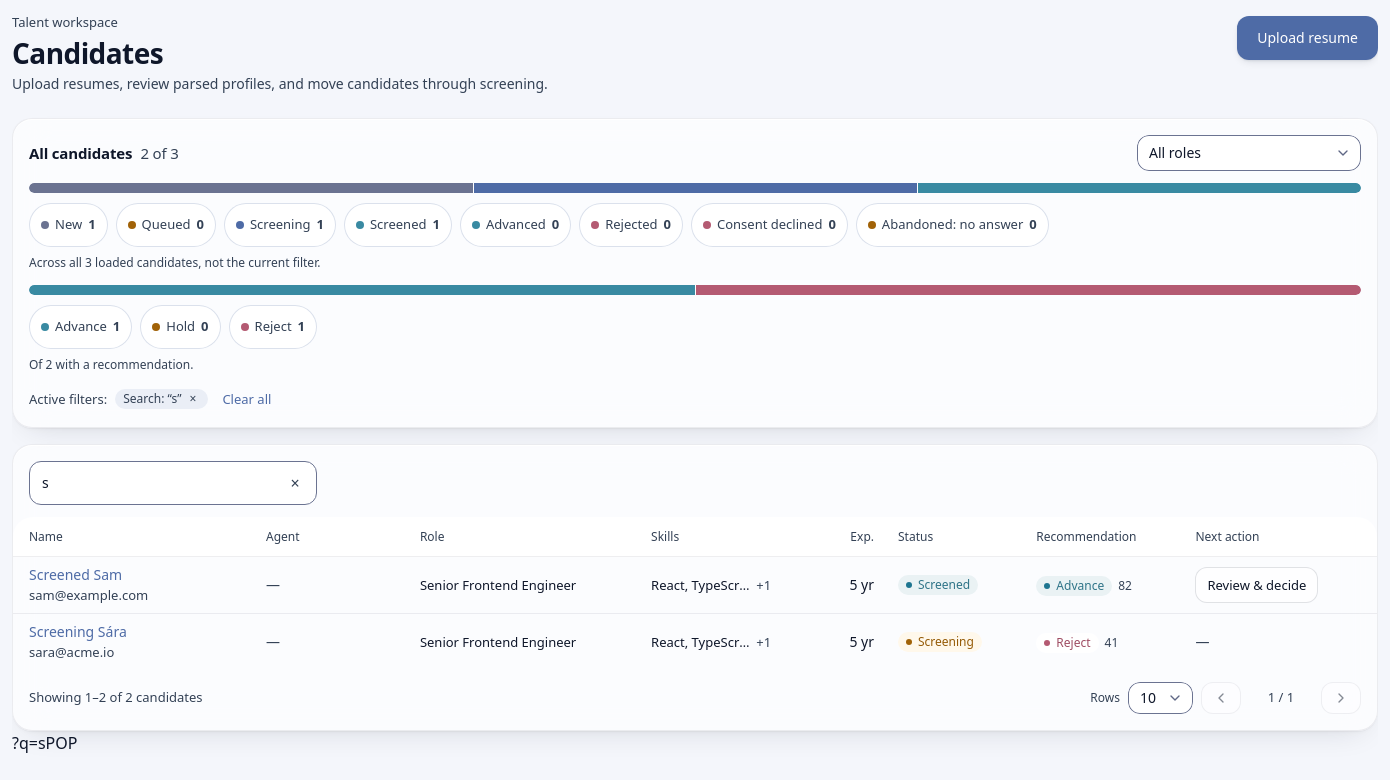
Test: CandidatesPage search › keeps q when a status toggle rebuilds the URL
This screenshot has width=1390, height=780.
Expected: the link "Screened Sam" is shown, [29, 565, 122, 584]
Click the button "Screened 1" at (398, 225), box [344, 203, 452, 247]
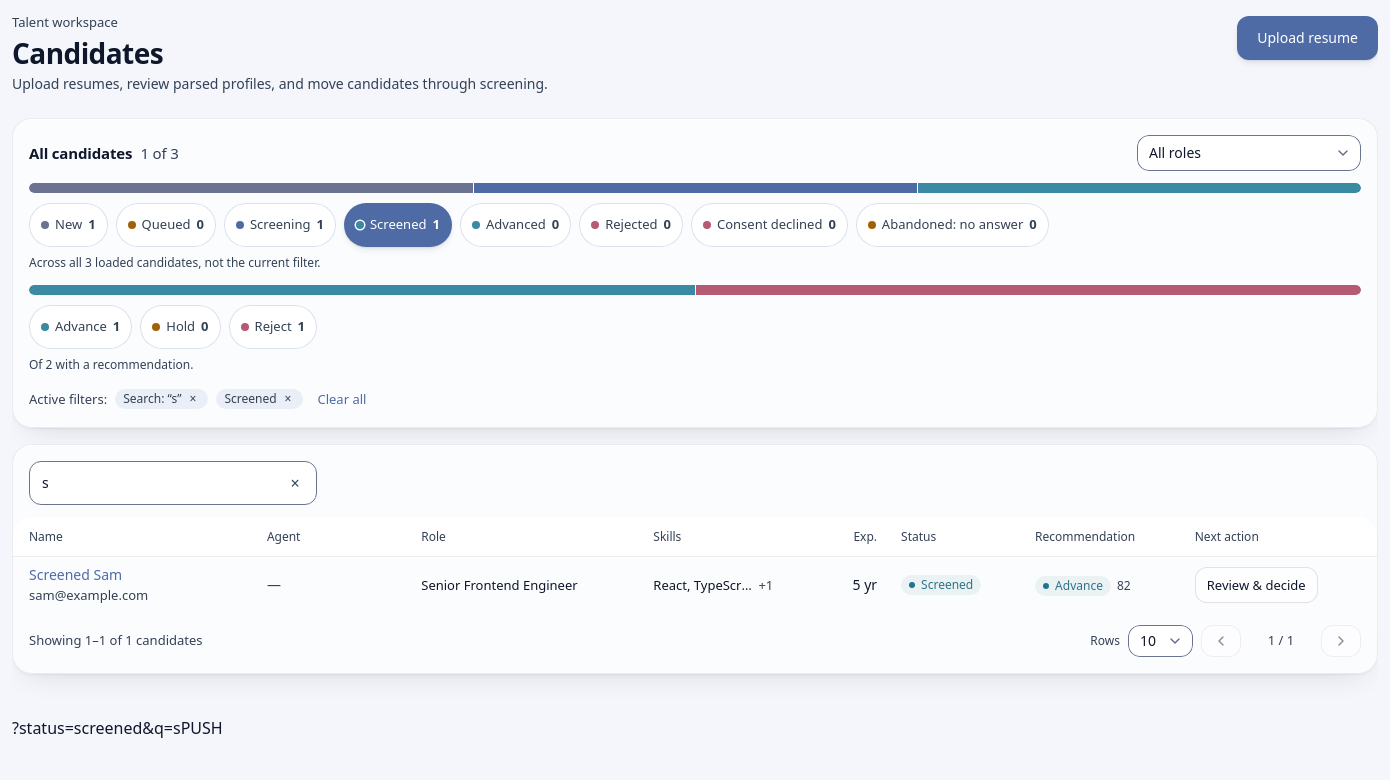
Expected: the search field named "Search candidates" holds "s", [29, 461, 317, 505]
Expected: the text with test id "location" reads "?status=screened&q=s", [12, 717, 181, 739]
